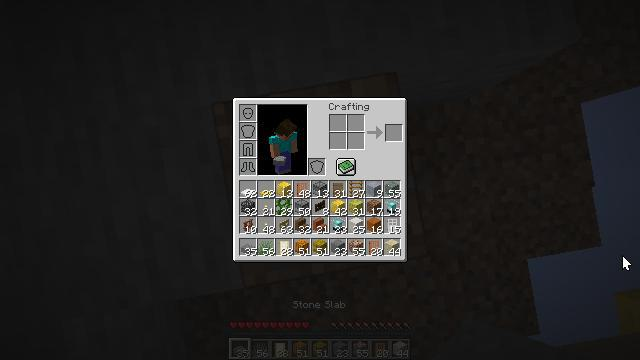cursor: (622, 255, 632, 271)
